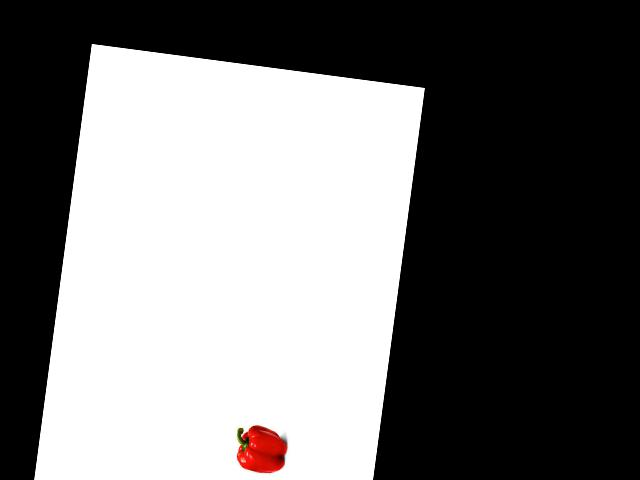bell_pepper: (231, 422, 290, 476)
